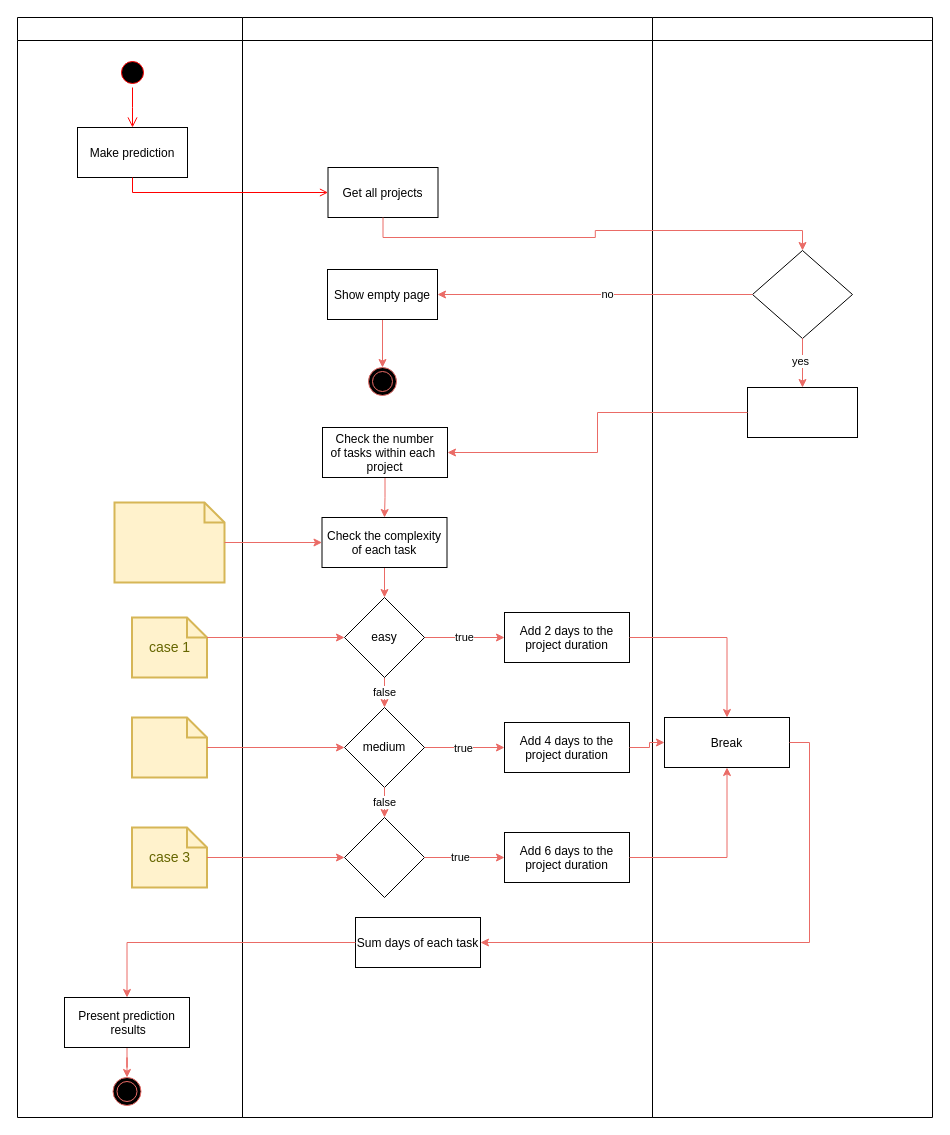
The diagram is 950 pixels wide and 1135 high, and some of its shapes have lost their labels. The shapes that lost their labels are listed below. From the top down, each one's box as (x1, y1, x2, y2) in pixels, then its label:
(752, 250, 852, 338): Any created projects or assigned to user?
(746, 386, 858, 438): Return all projects to the program
(113, 501, 225, 583): each ticket will be featured with Complexity flag
(16, 16, 242, 1118): User
(242, 16, 652, 1118): Program
(652, 16, 932, 1118): Database
(130, 716, 208, 778): case 2
(344, 816, 424, 898): hard
